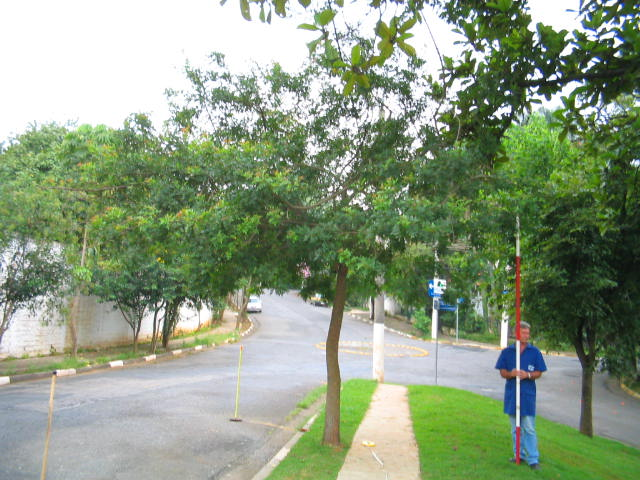crown: (74, 21, 613, 311)
stem: (316, 276, 353, 446)
stick: (510, 216, 524, 462)
tree: (71, 20, 617, 448)
